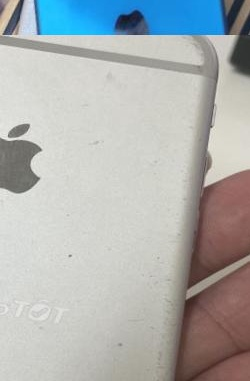scratch: (112, 127, 220, 381), (0, 92, 81, 220), (60, 35, 232, 71)
